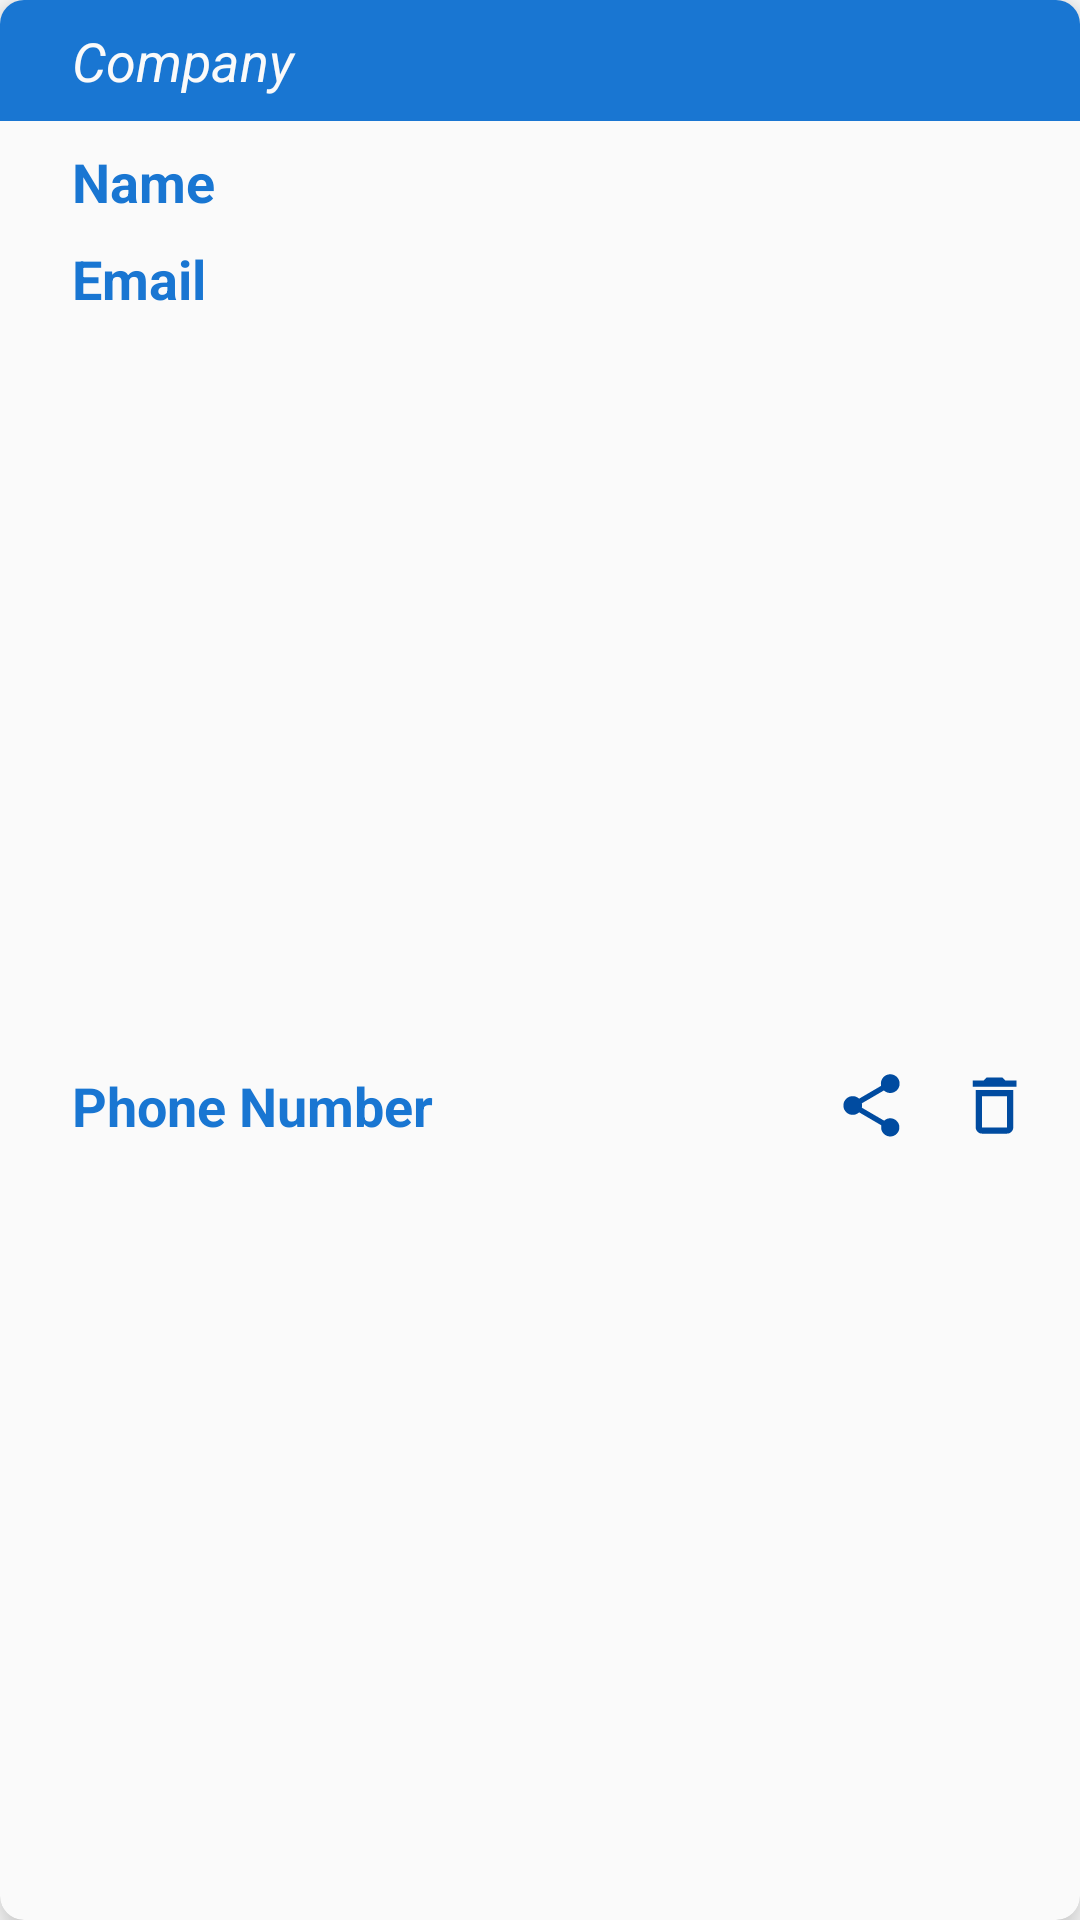

Point at icon controls on the screen. Image size 1080px x 1920px, points as [x,y].
Delete Image: [994,1105]
Share Image: [871,1105]
